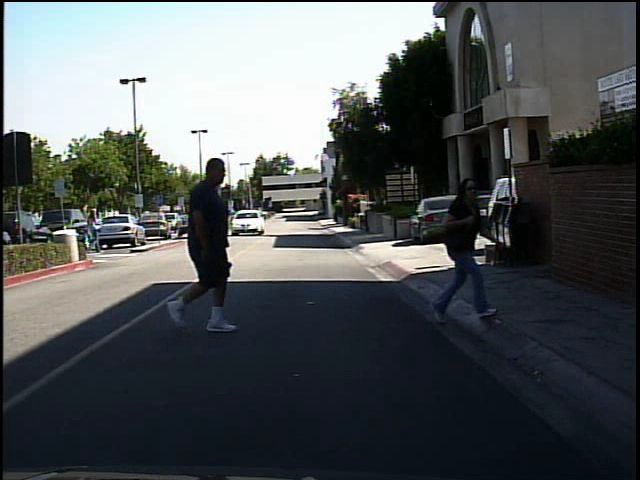person: (156, 155, 259, 336), (425, 163, 502, 326), (84, 203, 104, 256)
